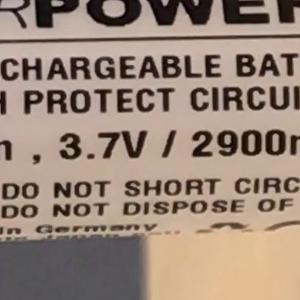3.7V: (49, 120, 155, 170)
